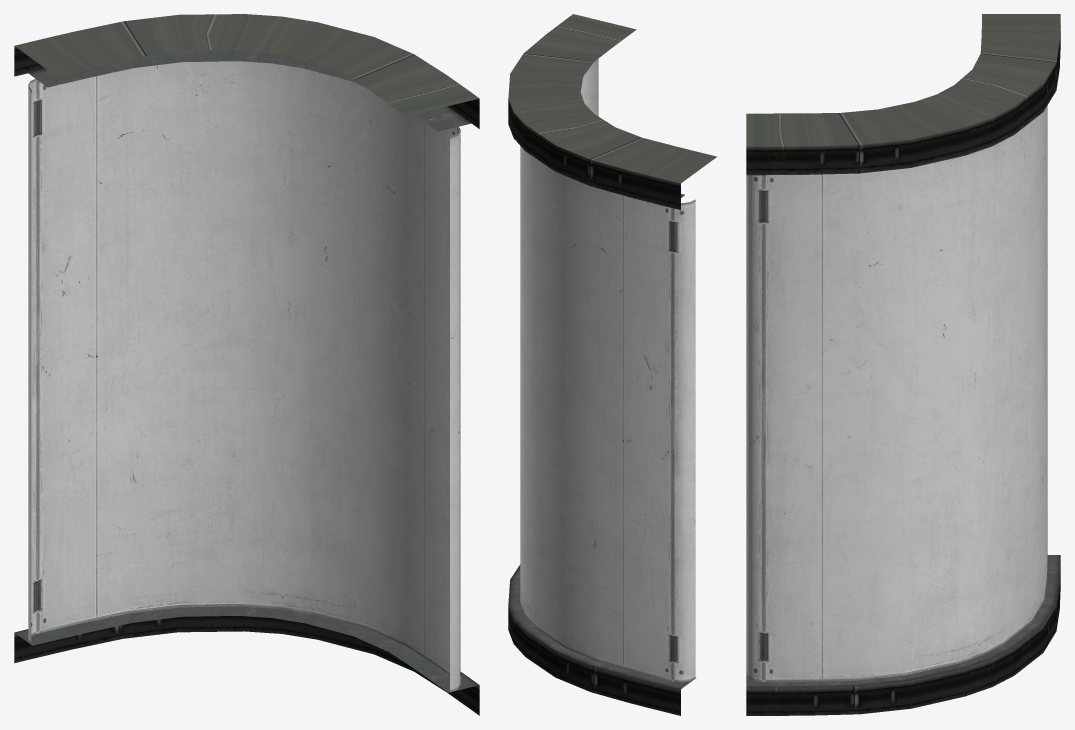
File: Neon_Wall_3x4_WindowCurve.FBX
3 views of the same model, side by side, from view 1: azimuth 30°, elevation 25°; view 2: azimuth 150°, elevation 25°; view 3: azimuth 270°, elevation 25° (orthographic). The views are drawn at different scales.
Parts seen in each view (by area): view 1: Neon_Wall_3x4_WindowCurve; view 2: Neon_Wall_3x4_WindowCurve; view 3: Neon_Wall_3x4_WindowCurve.
Part boxes in pixels (x1,y1,x2,y2): Neon_Wall_3x4_WindowCurve: (14, 14, 479, 715); Neon_Wall_3x4_WindowCurve: (508, 14, 716, 715); Neon_Wall_3x4_WindowCurve: (746, 14, 1060, 715).
Bounding box in the file's own units: 2 × 4 × 2.
